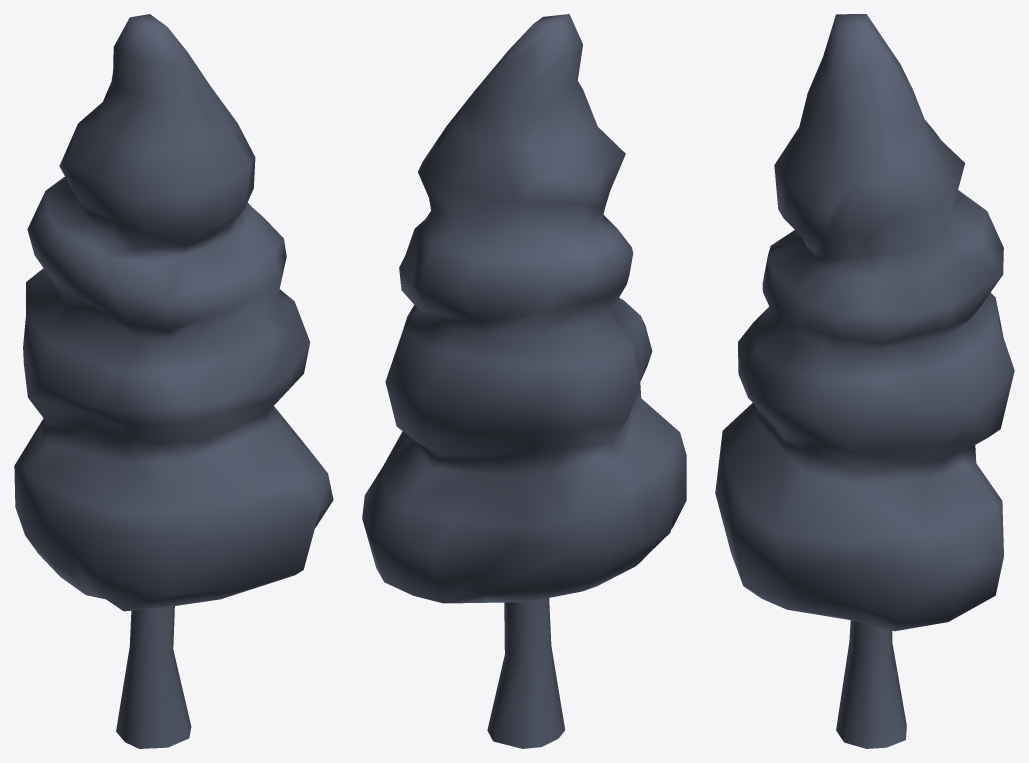
Rendered from Tree01.FBX.
3 renders of one model, left to right at view 1: azimuth 30°, elevation 25°; view 2: azimuth 150°, elevation 25°; view 3: azimuth 270°, elevation 25°, orthographic. The views are drawn at different scales.
Parts seen in each view (by area): view 1: Tree01; view 2: Tree01; view 3: Tree01.
Part boxes in pixels (<box>): Tree01: <box>14,14,333,748</box>; Tree01: <box>362,14,686,748</box>; Tree01: <box>715,14,1014,748</box>.
Bounding box in the file's own units: 304 × 782 × 301.
